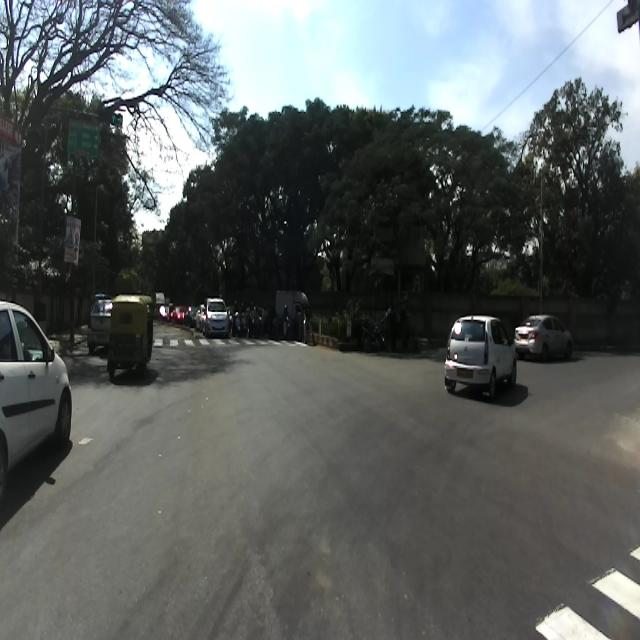car: (0, 300, 73, 500), (444, 315, 516, 401), (512, 311, 572, 360)
